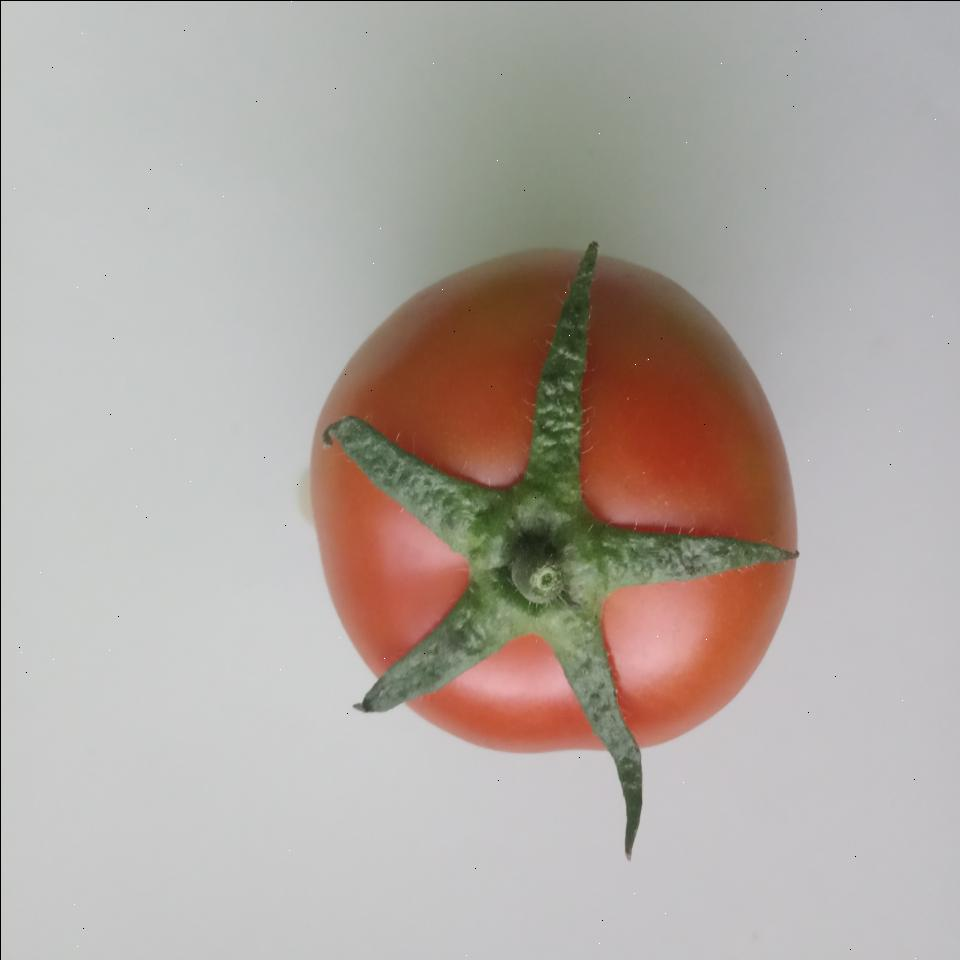Healthy: (292, 232, 810, 764)
